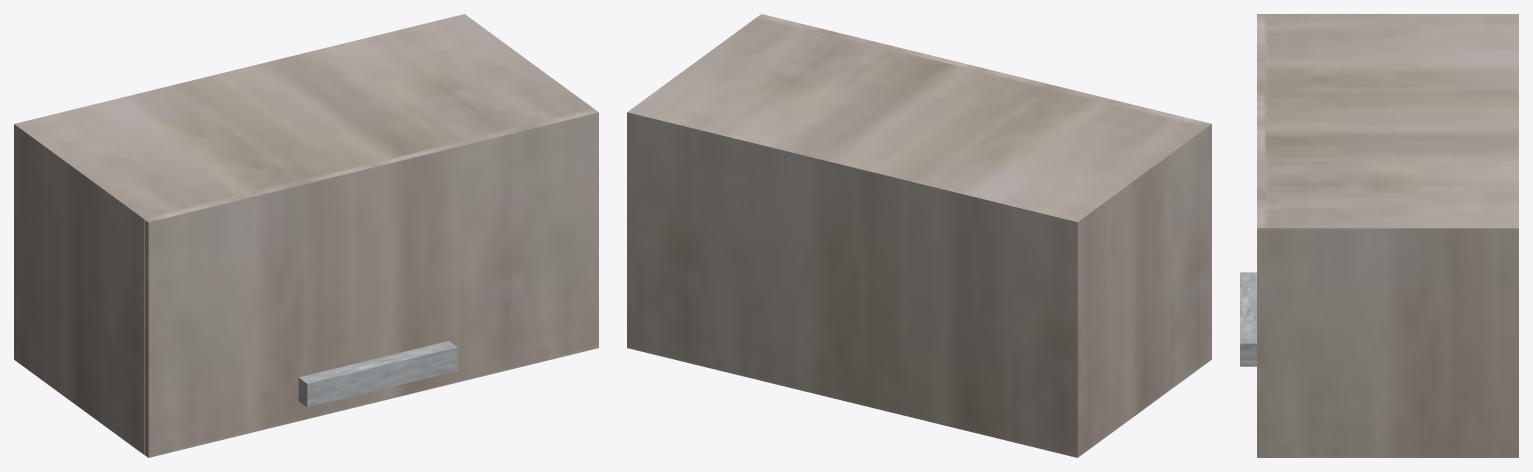
The model's file is armarioCozinha.glb.
3 views of the same model, side by side, from view 1: azimuth 30°, elevation 25°; view 2: azimuth 150°, elevation 25°; view 3: azimuth 270°, elevation 25° (orthographic). The views are drawn at different scales.
Visible parts, largest first — view 1: 3DGeom-1, 3DGeom-4, 3DGeom-3; view 2: 3DGeom-1, 3DGeom-3; view 3: 3DGeom-1, 3DGeom-3, 3DGeom-4.
Part boxes in pixels (<box>): 3DGeom-1: <box>14,14,598,457</box>; 3DGeom-4: <box>298,341,457,407</box>; 3DGeom-3: <box>144,109,598,222</box>; 3DGeom-1: <box>627,17,1211,457</box>; 3DGeom-3: <box>757,14,1211,126</box>; 3DGeom-1: <box>1257,14,1518,457</box>; 3DGeom-3: <box>1257,14,1265,228</box>; 3DGeom-4: <box>1240,272,1256,366</box>.
Size of the model in its own units: 0.6 by 0.3 by 0.33.
Materials: 3 (3 with a texture image).
